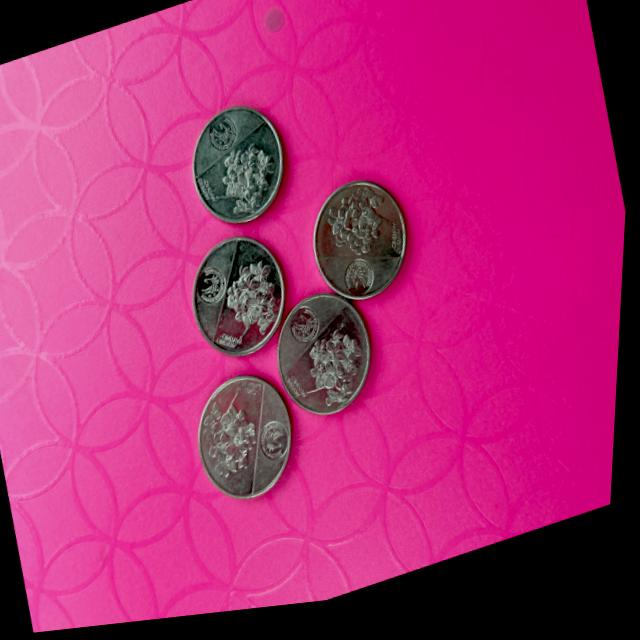1_New_Back: (319, 182, 405, 276), (303, 333, 378, 425), (223, 266, 294, 358), (201, 405, 268, 499), (212, 146, 287, 227)
